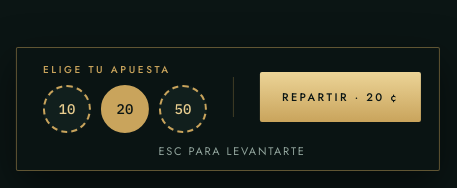
Test case: BlackjackBar › before a hand › shows the mapped error and stays on the bets when the deal fails
Click the button with class "action": (340, 97) [260, 72, 421, 122]
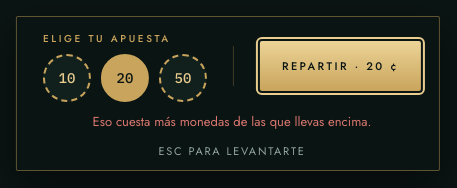
Expected: the number of buttons with class "bet-chip" is 3, [43, 54, 91, 102]; [101, 54, 149, 102]; [159, 54, 207, 102]
Result: the message "Eso cuesta más monedas de las que llevas encima." is shown at [92, 112, 372, 133]
